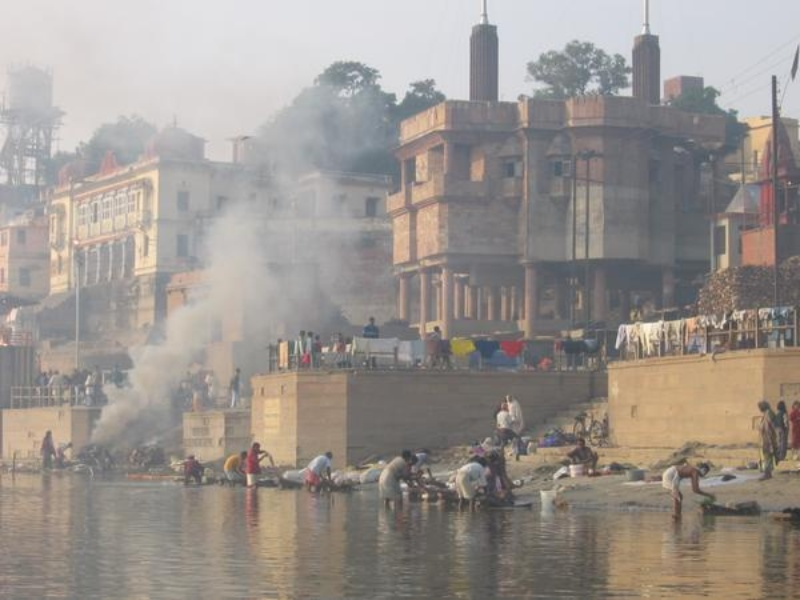smoke: (90, 179, 353, 439)
